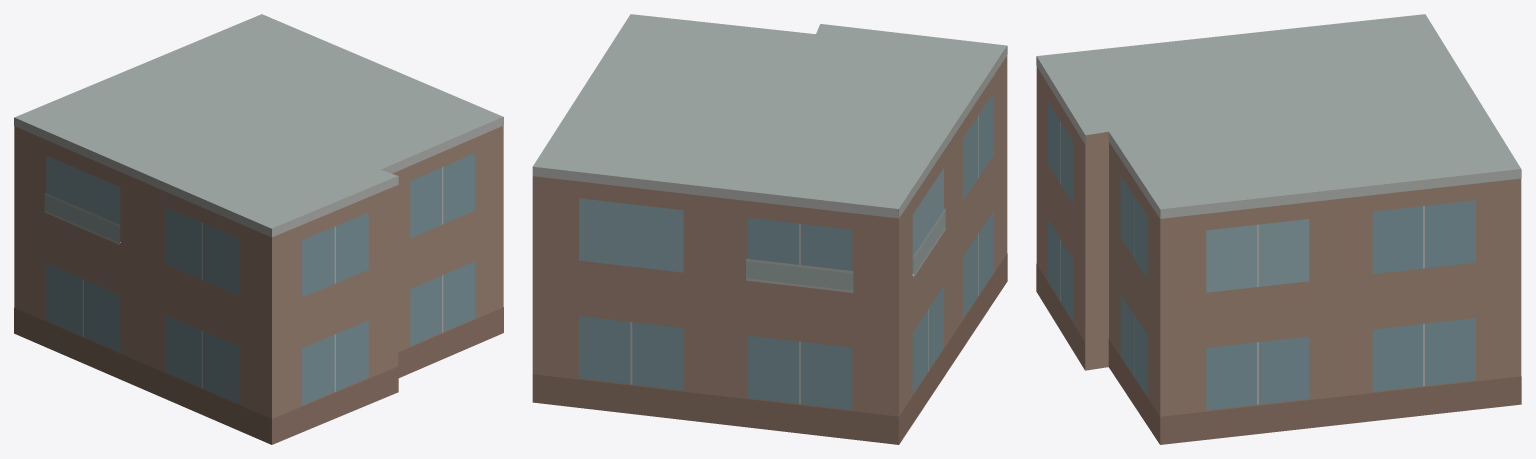
The model's file is survey-upis-32784156.glb.
The picture shows the model from 3 angles, left to right: view 1: azimuth 30°, elevation 25°; view 2: azimuth 150°, elevation 25°; view 3: azimuth 270°, elevation 25°; orthographic projection. The views are drawn at different scales.
Parts seen in each view (by area): view 1: survey-upis-32784156.tmp; view 2: survey-upis-32784156.tmp; view 3: survey-upis-32784156.tmp.
Part boxes in pixels (x1=…): survey-upis-32784156.tmp: x1=14, y1=14, x2=503, y2=444; survey-upis-32784156.tmp: x1=532, y1=14, x2=1007, y2=444; survey-upis-32784156.tmp: x1=1036, y1=14, x2=1521, y2=444.
Bounding box in the file's own units: 10.87 × 6.1 × 11.4.
